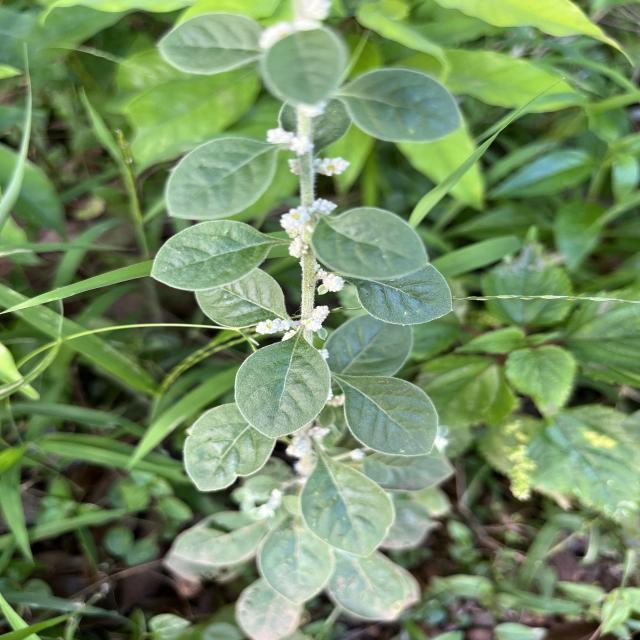Aerva lanata: (232, 332, 334, 442), (336, 371, 442, 458), (343, 256, 457, 328)
